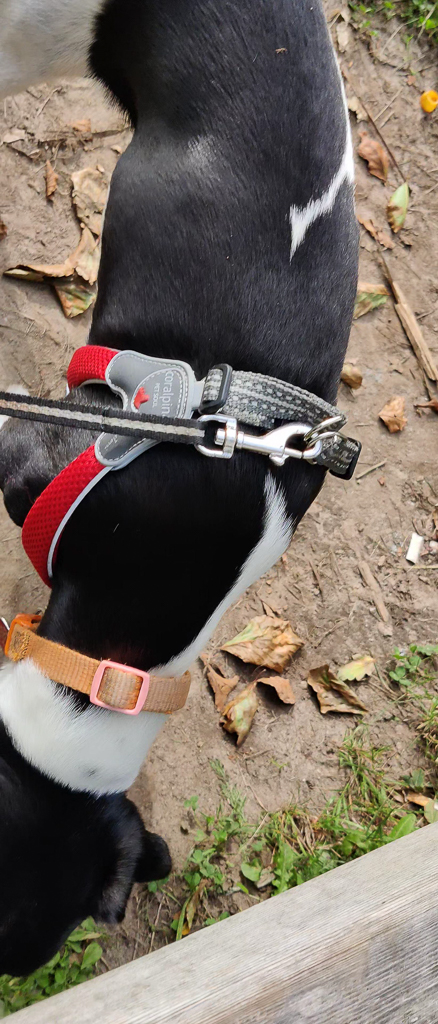Dog: (0, 0, 379, 1024)
